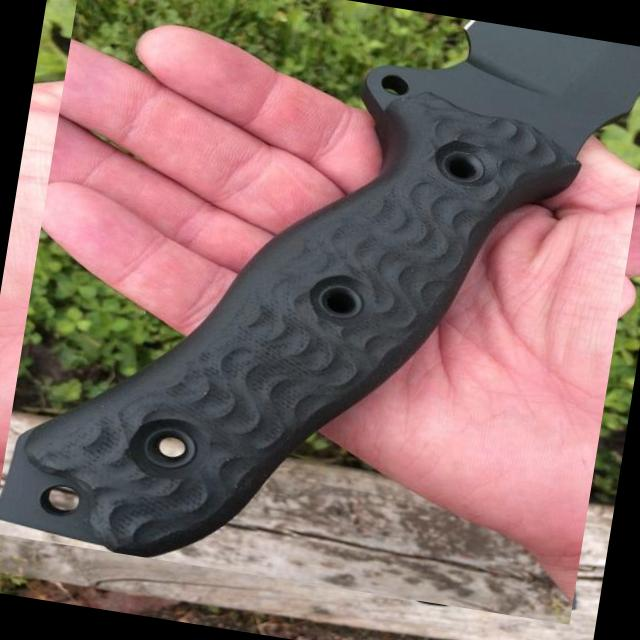Knife: (0, 20, 640, 557)
